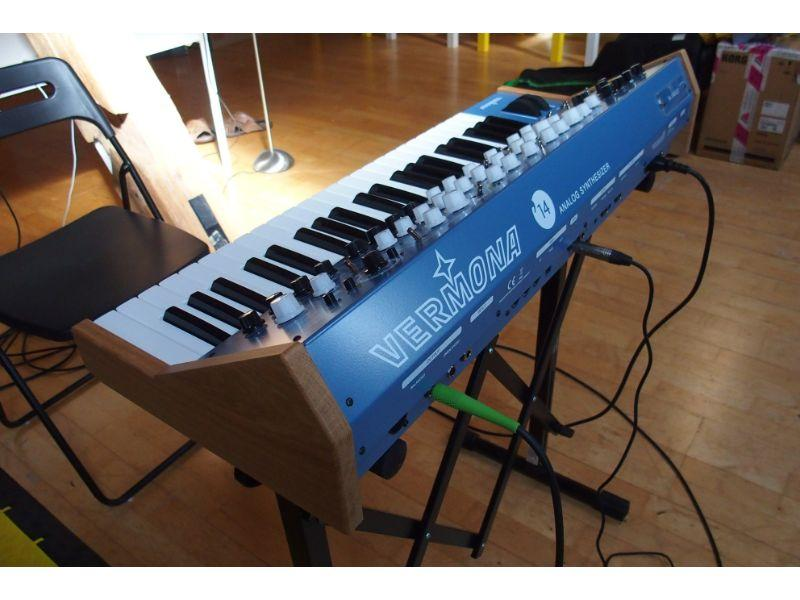synthesizer: (85, 57, 778, 512)
